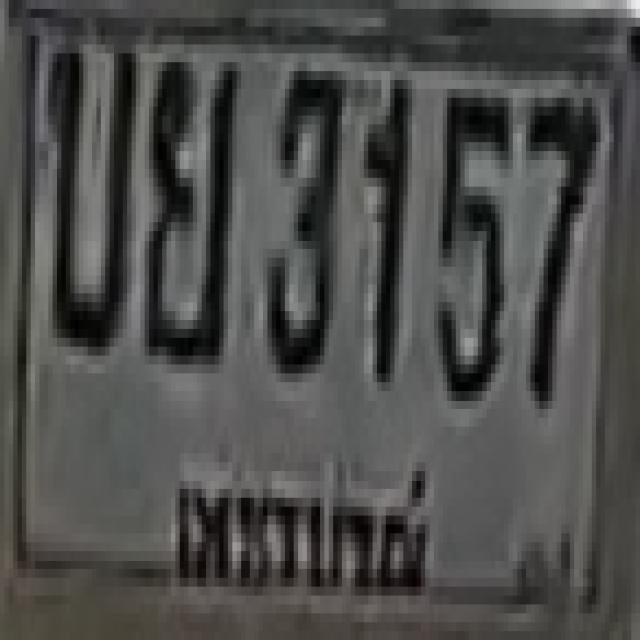1: (360, 75, 408, 378)
3: (263, 63, 342, 364)
5: (432, 89, 506, 391)
7: (526, 89, 592, 400)
A26: (39, 26, 136, 346)
A34: (140, 54, 237, 356)
PNB: (161, 443, 441, 622)
